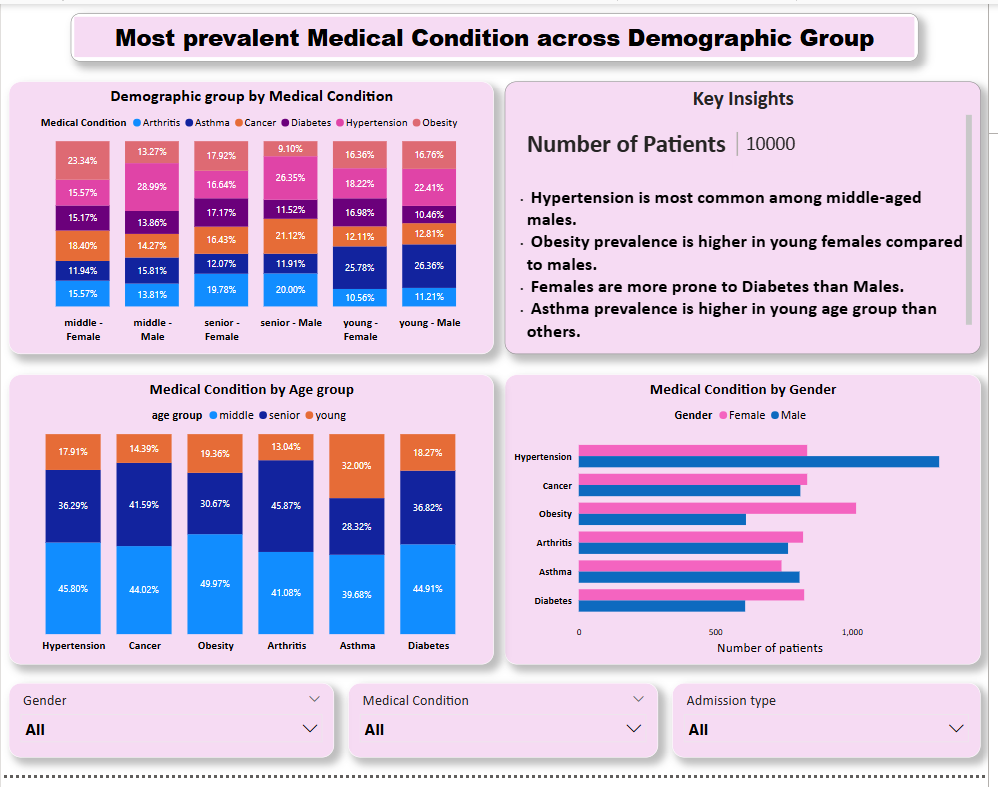

The page's visual inventory and layout, read from the dashboard file:
{"tool":"powerbi","page":{"name":"Page 1","canvas":[1280,1000],"ordinal":0},"visuals":[{"type":"clusteredBarChart","title":" Medical Condition by Gender","fields":{"Category":["data.Medical Condition"],"Y":["CountNonNull(data.Gender)"],"Series":["data.Gender"]},"box":[653.3,480.4,617.1,375.9],"z":0},{"type":"hundredPercentStackedColumnChart","title":"Demographic group by Medical Condition","fields":{"Y":["CountNonNull(data.demographic group)"],"Series":["data.Medical Condition"],"Category":["data.demographic group"]},"box":[10.1,100.5,629.2,353.8],"z":1000},{"type":"hundredPercentStackedColumnChart","title":" Medical Condition by Age group","fields":{"Category":["data.Medical Condition"],"Y":["CountNonNull(data.age group)"],"Series":["data.age group"]},"box":[10.1,480.4,629.2,375.9],"z":2000},{"type":"slicer","title":"Gender wise Medical Condition","fields":{"Values":["data.Medical Condition"]},"box":[450.3,880.4,402,96.5],"z":3000},{"type":"shape","box":[90.5,12.1,1099.5,62.3],"z":7002},{"type":"slicer","title":"Gender wise Medical Condition","fields":{"Values":["data.Gender"]},"box":[10.1,880.4,422.1,96.5],"z":7003},{"type":"slicer","title":"Gender wise Medical Condition","fields":{"Values":["data.Admission Type"]},"box":[870.4,880.4,400,96.5],"z":7004},{"type":"textbox","title":"Key Insights","box":[653.3,100.5,617.1,353.8],"z":7005},{"type":"multiRowCard","title":"Gender wise Medical Condition","fields":{"Values":["Measure Table.Number of patient"]},"box":[948.8,160.8,122.6,56.3],"z":7006}]}

Visuals, with their boxes in screenshot pixels (x1, y1, x2, y2), scaled from the page's 1280x1000 canvas onto the 998x787 screenshot:
" Medical Condition by Gender" clusteredBarChart: <box>509,378,991,674</box>
"Demographic group by Medical Condition" hundredPercentStackedColumnChart: <box>8,79,498,358</box>
" Medical Condition by Age group" hundredPercentStackedColumnChart: <box>8,378,498,674</box>
"Gender wise Medical Condition" slicer: <box>351,693,665,769</box>
shape: <box>71,10,928,59</box>
"Gender wise Medical Condition" slicer: <box>8,693,337,769</box>
"Gender wise Medical Condition" slicer: <box>679,693,991,769</box>
"Key Insights" textbox: <box>509,79,991,358</box>
"Gender wise Medical Condition" multiRowCard: <box>740,127,835,171</box>
